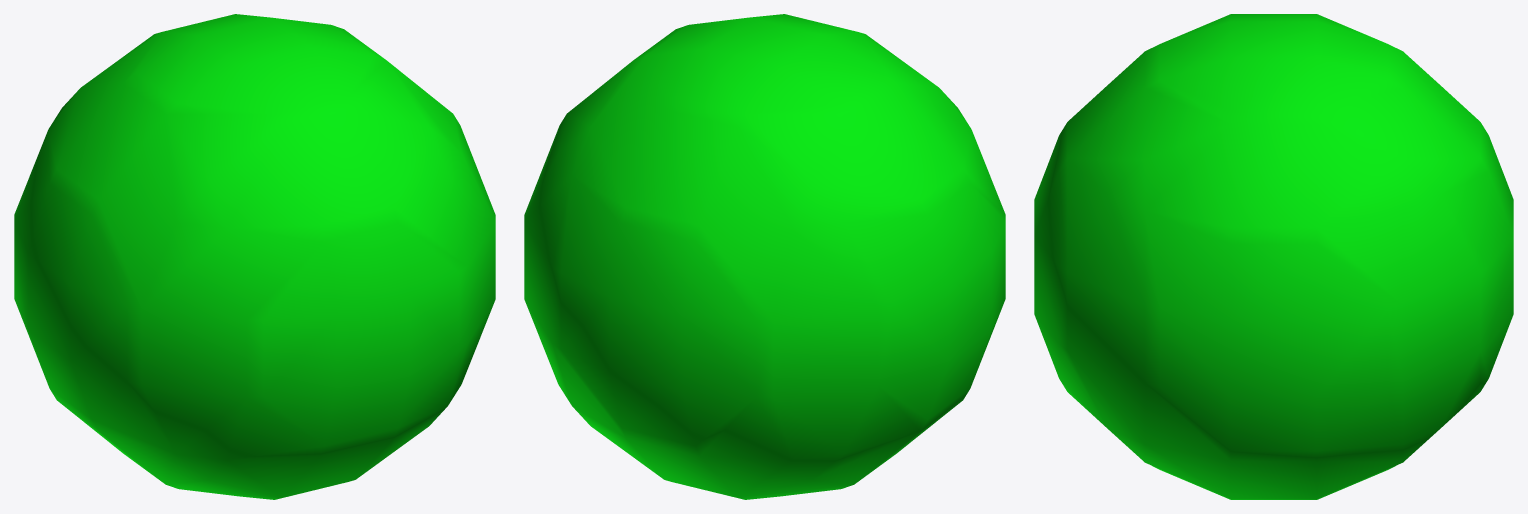
The model's file is ball2.fbx.
3 views of the same model, side by side, from view 1: azimuth 30°, elevation 25°; view 2: azimuth 150°, elevation 25°; view 3: azimuth 270°, elevation 25° (orthographic).
Visible parts, largest first — view 1: Mball; view 2: Mball; view 3: Mball.
Boxes of the visible parts, box(x1,y1,x2,y2) form: Mball: box(14, 14, 495, 499); Mball: box(524, 14, 1005, 499); Mball: box(1034, 14, 1513, 499).
Bounding box in the file's own units: 223 × 223 × 223.
